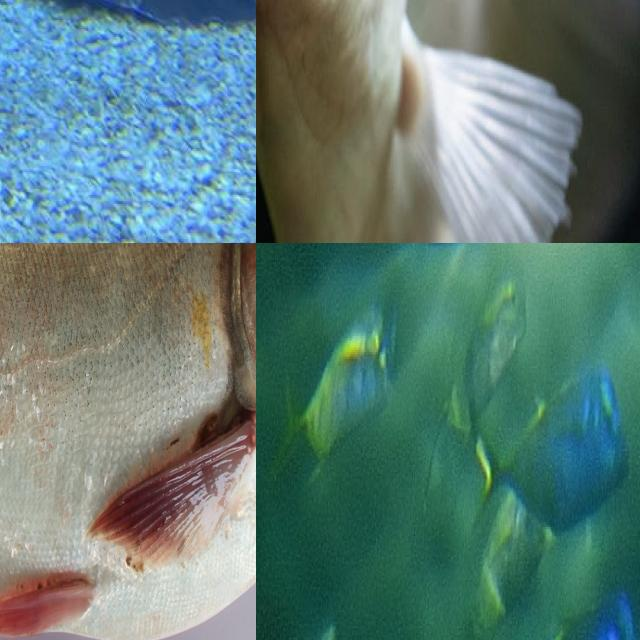fish: (0, 243, 256, 640), (256, 0, 640, 243), (0, 0, 256, 243)
